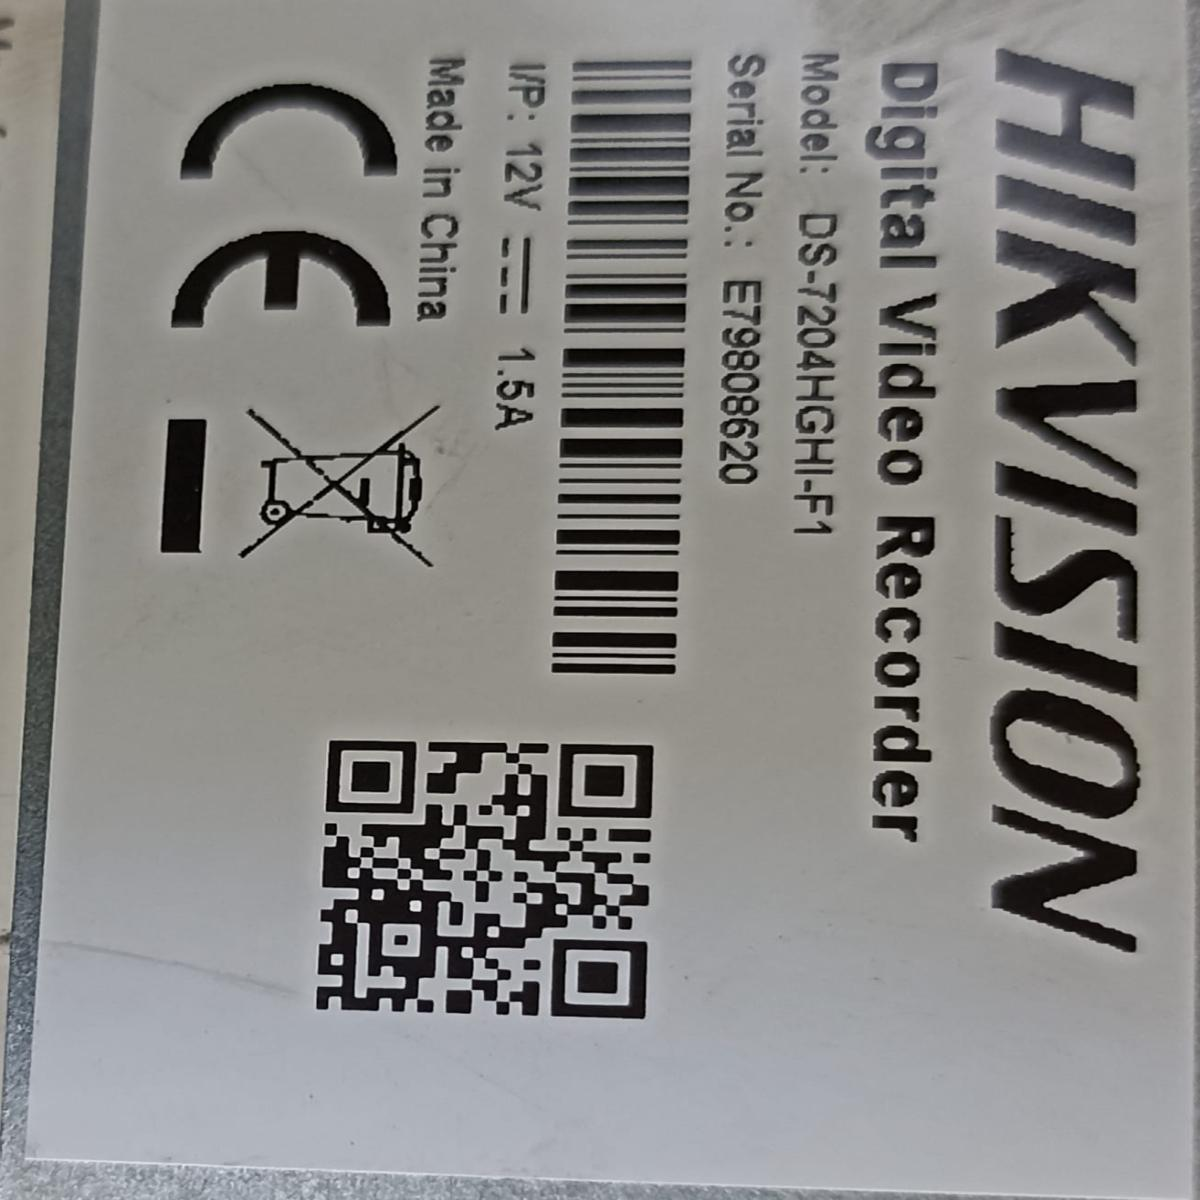Barcode: (531, 38, 716, 699)
Label: (22, 0, 1189, 1197)
